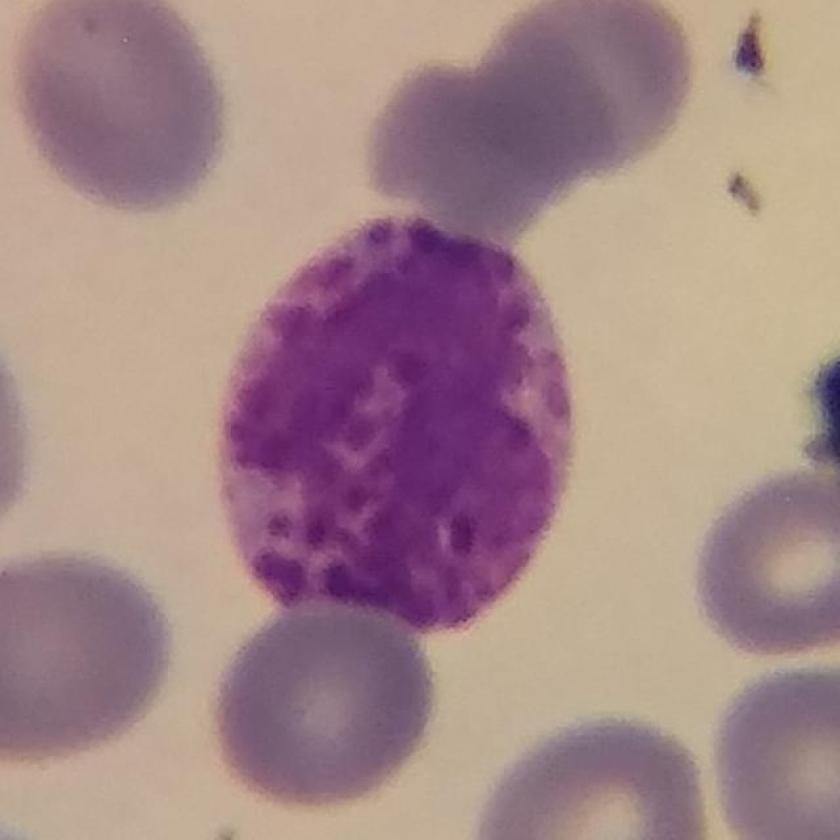basophil: (215, 206, 590, 644)
